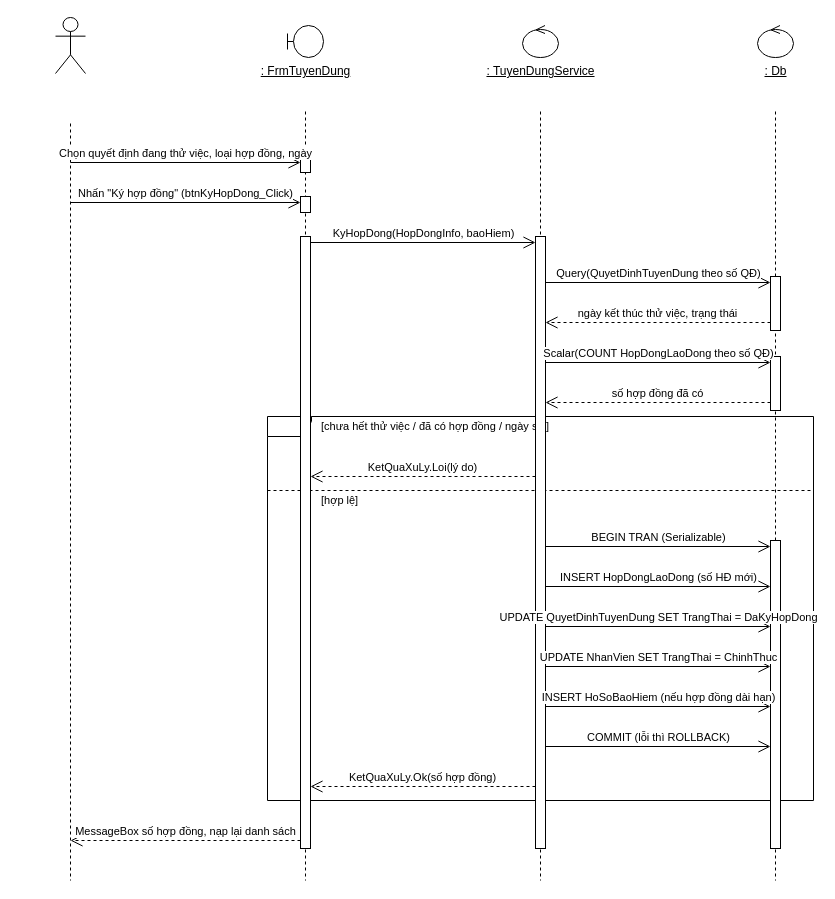
This 835x899 diagram has some shape labels left out. The box of each missing label's shape, as (x1, y1, x2, y2) in pixels:
: NV phòng nhân sự: (54, 16, 86, 74)
alt: (266, 416, 814, 800)
